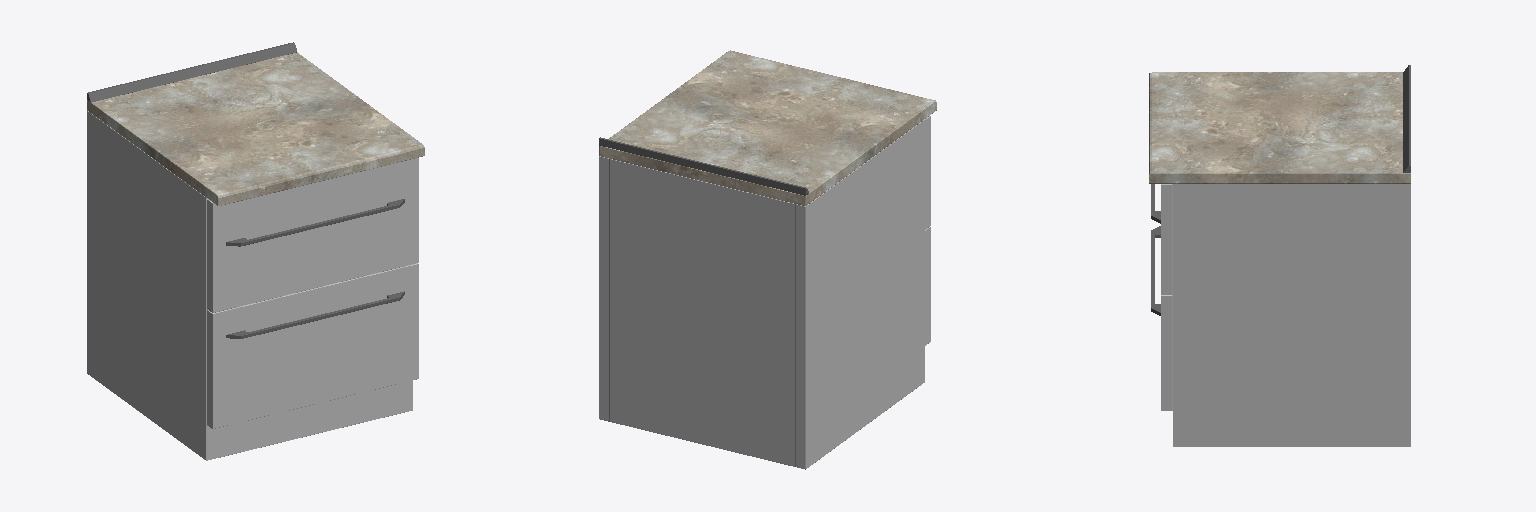
3 views of the same model, side by side, from view 1: azimuth 30°, elevation 25°; view 2: azimuth 150°, elevation 25°; view 3: azimuth 270°, elevation 25° (orthographic).
Bounding box in the file's own units: 0.6 × 0.78 × 0.66.
Materials: 3 (2 with a texture image).